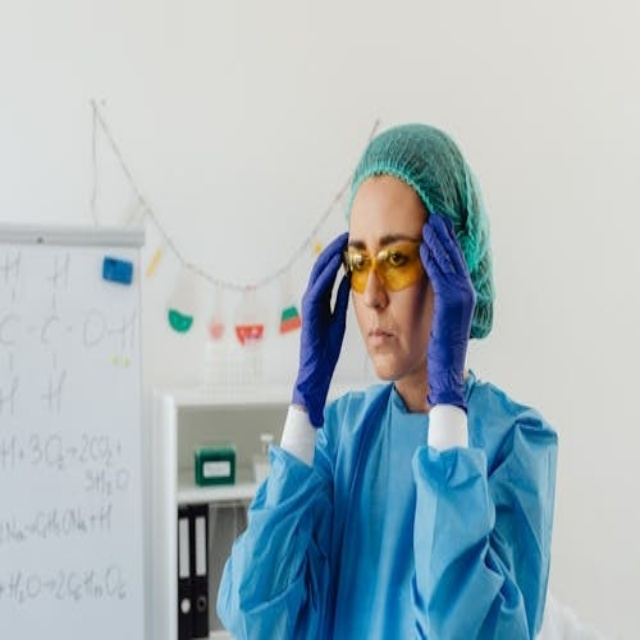Gafas: (343, 240, 425, 295)
Guantes: (293, 231, 354, 427), (420, 210, 476, 410)
Sin_mascara: (362, 323, 408, 371)
